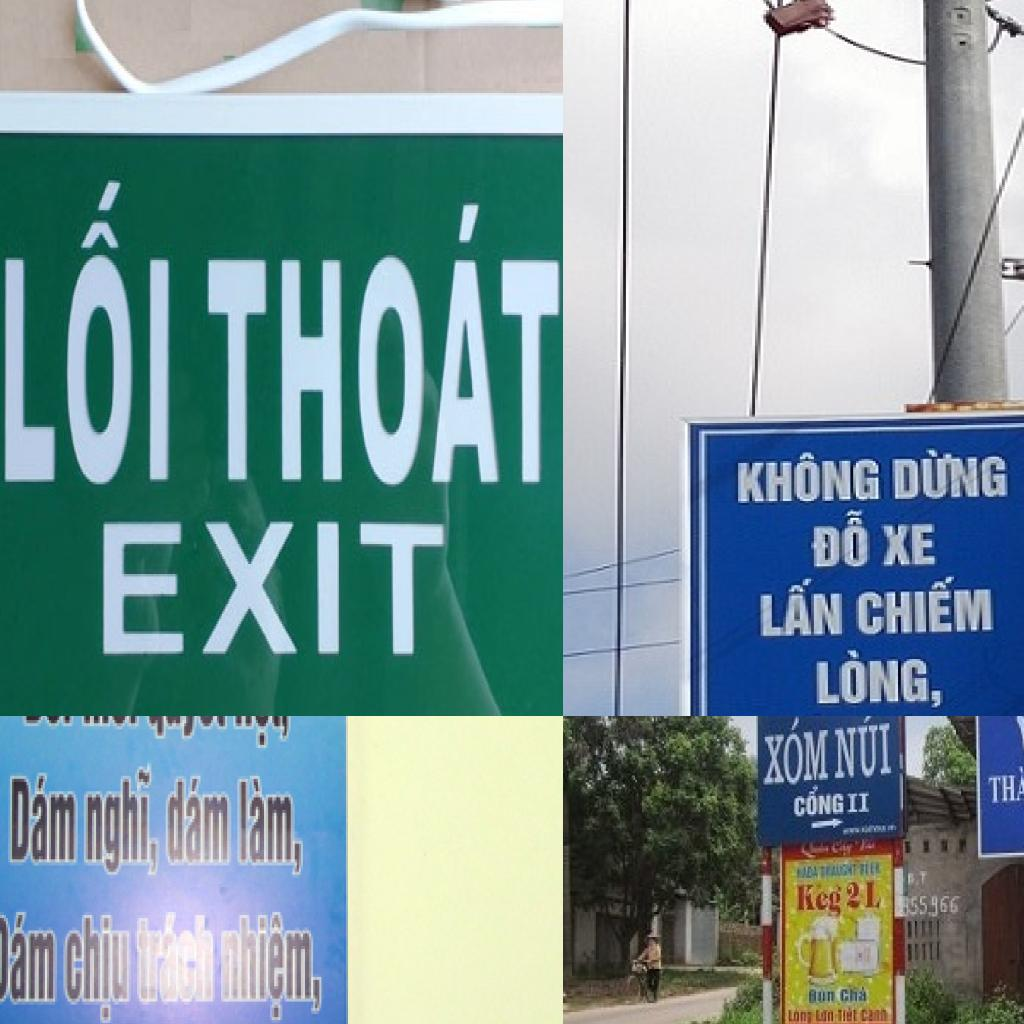text: (202, 195, 563, 501), (0, 170, 183, 501), (218, 911, 325, 1024), (730, 444, 887, 509), (82, 763, 162, 884), (853, 573, 996, 638), (811, 648, 946, 714), (59, 911, 135, 1024), (135, 912, 217, 1011), (884, 444, 1013, 505), (237, 773, 307, 881), (2, 772, 80, 868), (162, 776, 233, 872), (0, 912, 61, 1011), (758, 575, 848, 642), (761, 716, 831, 791), (833, 716, 896, 784), (808, 510, 873, 572), (876, 520, 943, 570), (229, 716, 296, 754), (143, 716, 229, 744), (794, 880, 845, 924), (790, 785, 845, 821), (986, 764, 1024, 809), (906, 891, 964, 919), (845, 880, 886, 914), (845, 789, 874, 817), (838, 982, 869, 1006), (858, 1005, 891, 1024), (786, 1005, 814, 1024), (808, 987, 836, 1005), (906, 869, 930, 889), (859, 860, 884, 878), (814, 1005, 836, 1024), (838, 1005, 858, 1024)
